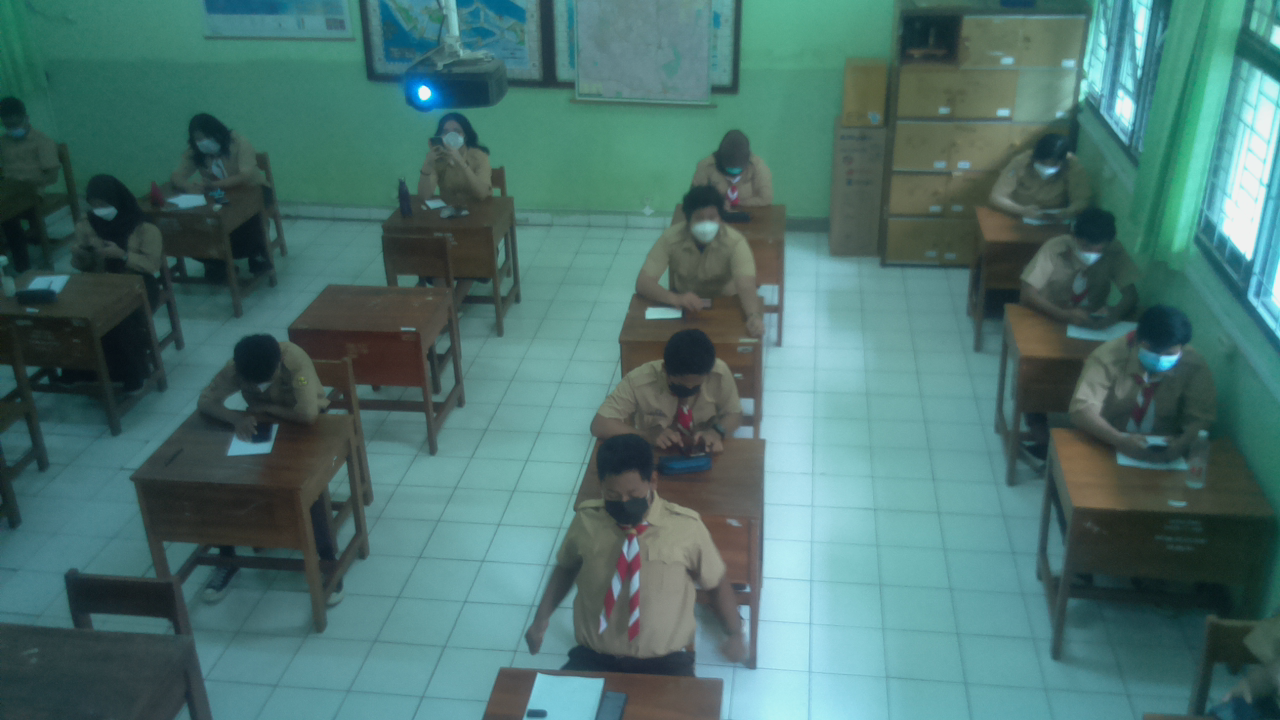Student: (563, 435, 719, 659), (1085, 307, 1209, 430), (623, 327, 743, 434), (647, 187, 751, 292), (1027, 211, 1126, 310), (75, 177, 165, 280), (211, 335, 320, 417), (995, 131, 1083, 209), (413, 115, 488, 198), (689, 131, 769, 205), (179, 115, 256, 190), (0, 93, 62, 185)
